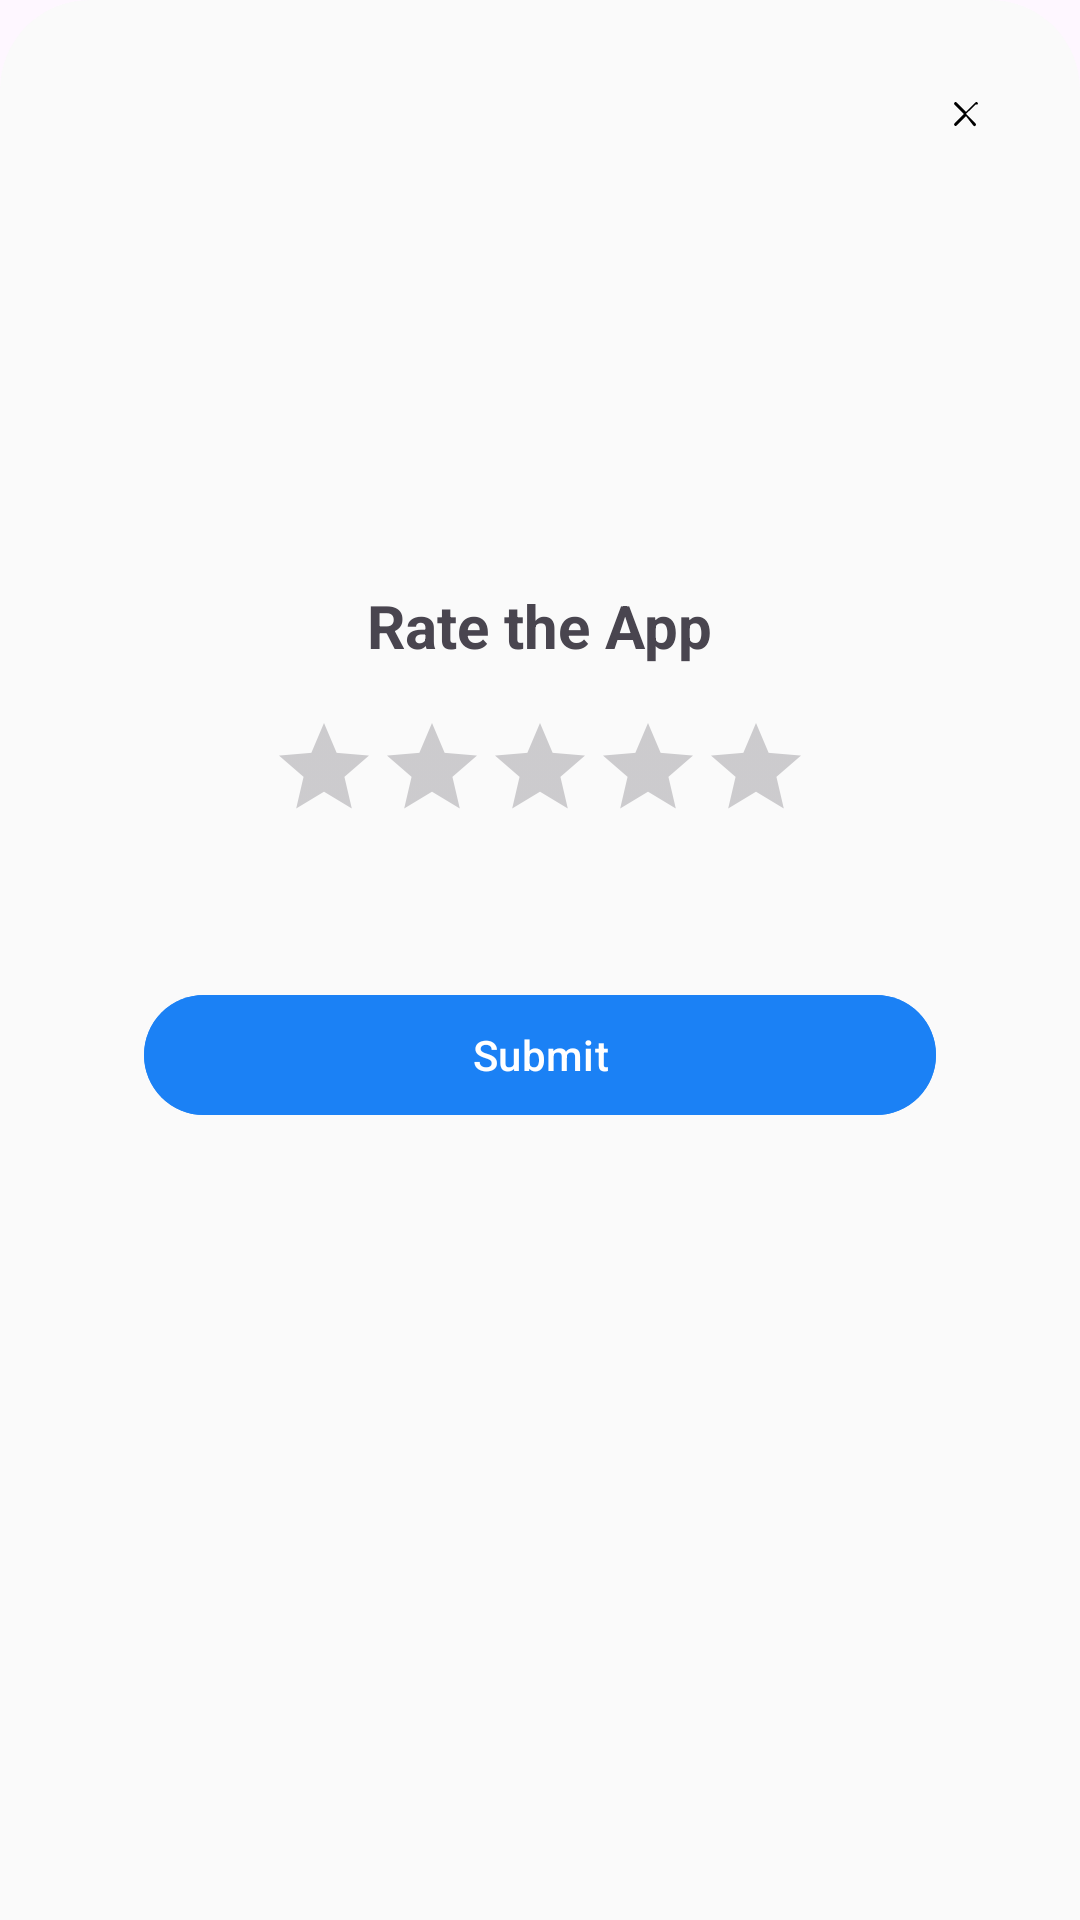

Screen size 1080 × 1920. Icon name, then its box in pixels as (x1, y1, x2, y2):
Close: (954, 102, 978, 127)
